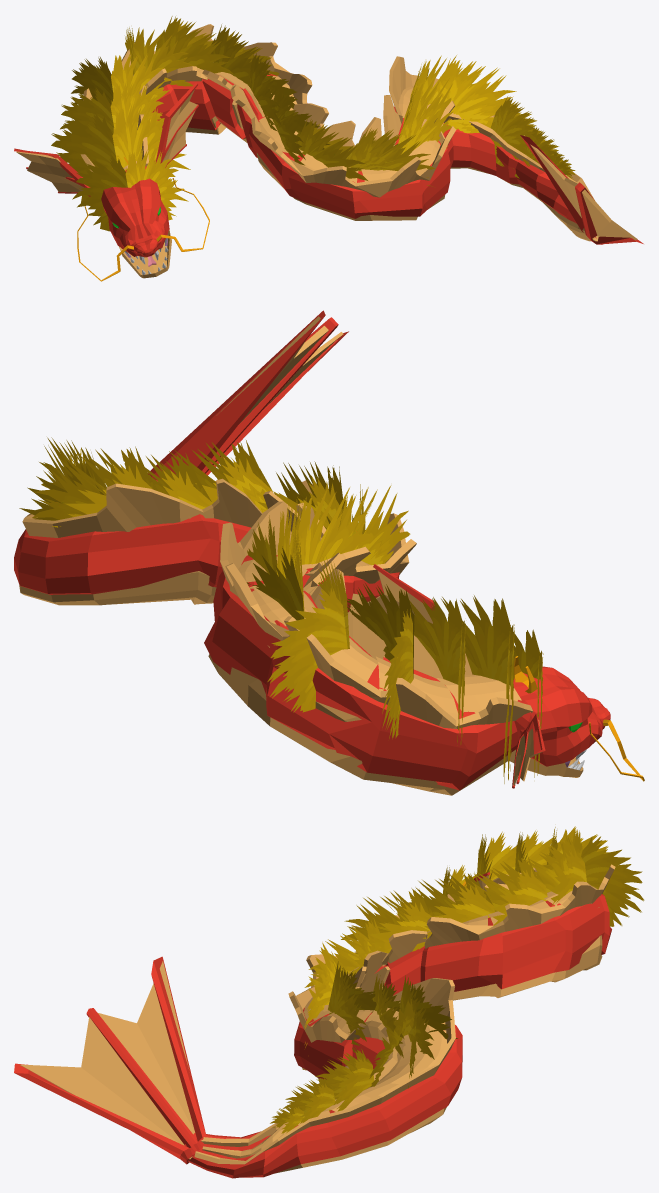
File: dragon.fbx
3 views of the same model, one above another, from view 1: azimuth 30°, elevation 25°; view 2: azimuth 150°, elevation 25°; view 3: azimuth 270°, elevation 25° (orthographic). The views are drawn at different scales.
Visible parts, largest first — view 1: dragon, dragon_fur; view 2: dragon, dragon_fur; view 3: dragon, dragon_fur.
Boxes of the visible parts, x1,y1,x2,y2 form: dragon: [14, 24, 643, 281]; dragon_fur: [51, 16, 575, 231]; dragon: [14, 310, 644, 795]; dragon_fur: [19, 437, 543, 783]; dragon: [14, 864, 615, 1178]; dragon_fur: [270, 826, 644, 1133].
Size of the model in its own units: 620 by 247 by 687.
8 materials, 1 textured.
